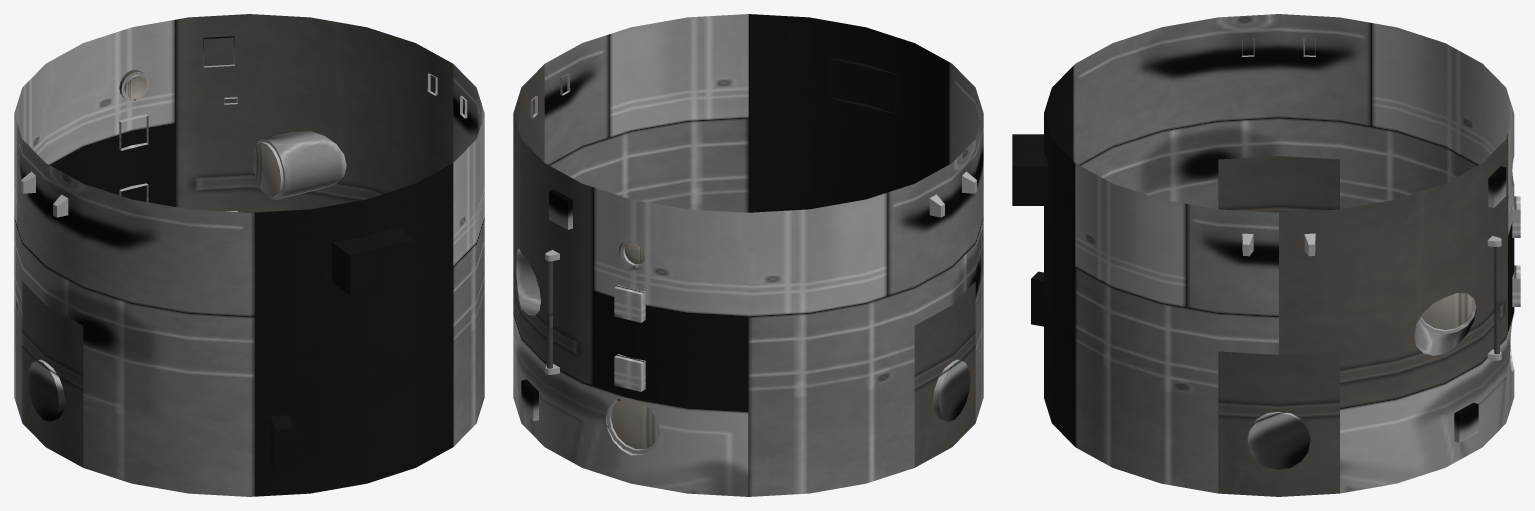
Rendered from spektr lab naked.obj.
3 renders of one model, left to right at view 1: azimuth 30°, elevation 25°; view 2: azimuth 150°, elevation 25°; view 3: azimuth 270°, elevation 25°, orthographic.
Visible parts, largest first — view 1: 1.007, w1.004; view 2: 1.007, w1.004; view 3: 1.007, w1.004.
Boxes of the visible parts, bbox=[...] form: 1.007: bbox=[14, 14, 484, 496]; w1.004: bbox=[125, 76, 280, 197]; 1.007: bbox=[513, 14, 983, 496]; w1.004: bbox=[611, 242, 658, 449]; 1.007: bbox=[1012, 14, 1520, 496]; w1.004: bbox=[1421, 293, 1473, 329].
Size of the model in its own units: 1.94 by 1.25 by 2.02.
